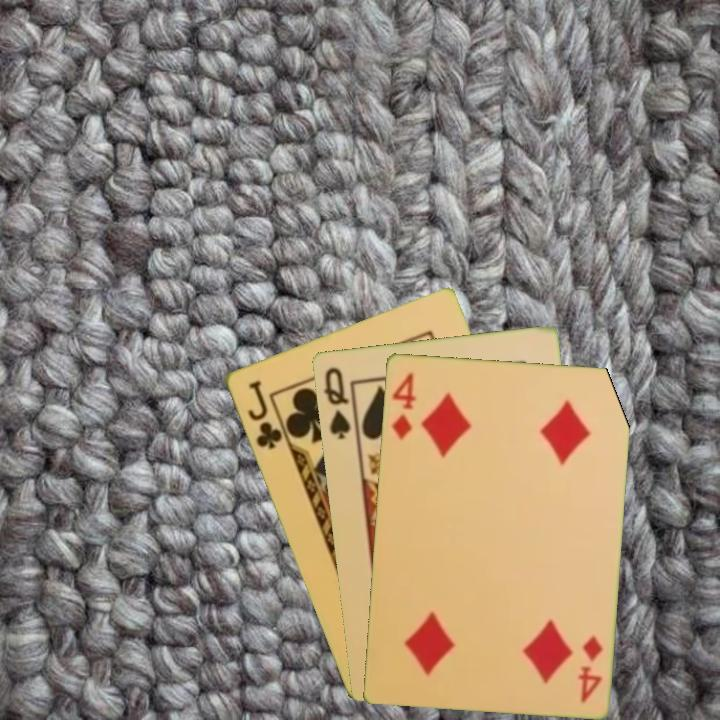4d: (387, 368, 419, 443), (574, 632, 605, 705)
Jc: (243, 376, 285, 452)
Qs: (320, 363, 353, 442)
